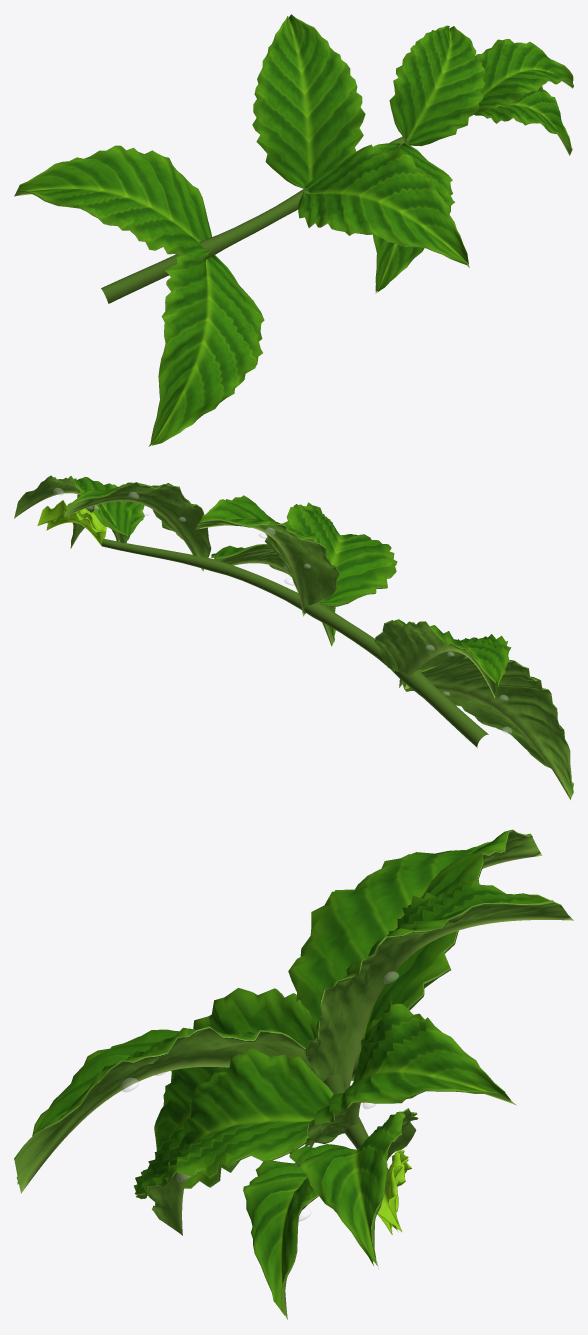
The model's file is mint-sprig.glb.
The picture shows the model from 3 angles, top to bottom: view 1: azimuth 30°, elevation 25°; view 2: azimuth 150°, elevation 25°; view 3: azimuth 270°, elevation 25°; orthographic projection. The views are drawn at different scales.
Parts seen in each view (by area): view 1: mint-sprig-top, mint-sprig-stem, mint-sprig-underside; view 2: mint-sprig-underside, mint-sprig-top, mint-sprig-stem, mint-apical-bud, mint-sprig; view 3: mint-sprig-top, mint-sprig-underside, mint-apical-bud, mint-sprig-stem, mint-sprig.
Boxes of the visible parts, <box> form: mint-sprig-top: <box>16,14,573,445</box>; mint-sprig-stem: <box>101,137,409,303</box>; mint-sprig-underside: <box>14,34,573,446</box>; mint-sprig-underside: <box>14,475,572,800</box>; mint-sprig-top: <box>46,476,573,793</box>; mint-sprig-stem: <box>101,539,488,747</box>; mint-apical-bud: <box>37,500,106,545</box>; mint-sprig: <box>53,488,511,733</box>; mint-sprig-top: <box>14,830,567,1315</box>; mint-sprig-underside: <box>14,829,573,1319</box>; mint-apical-bud: <box>377,1149,411,1235</box>; mint-sprig-stem: <box>323,1045,388,1170</box>; mint-sprig: <box>121,971,398,1221</box>.
Bounding box in the file's own units: 0.1615 × 0.0884 × 0.086.
5 materials, 2 textured.
